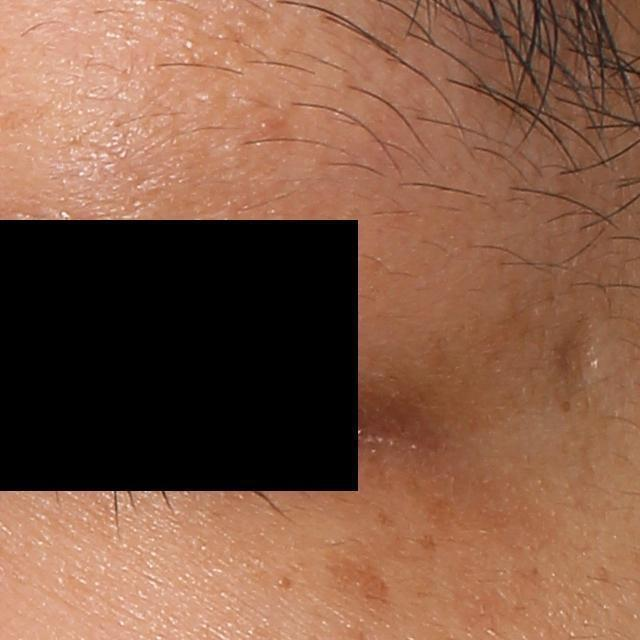atrophic_scar: (550, 315, 601, 402)
melasma: (320, 543, 400, 619), (403, 454, 476, 532)
